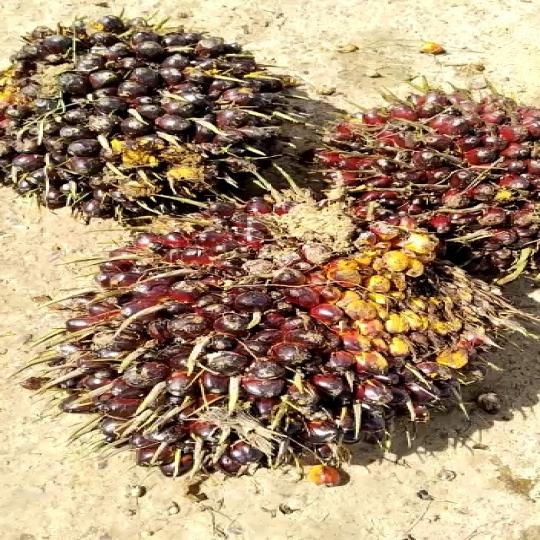kurang masak: (51, 196, 480, 481), (0, 22, 303, 219), (305, 97, 540, 276)
